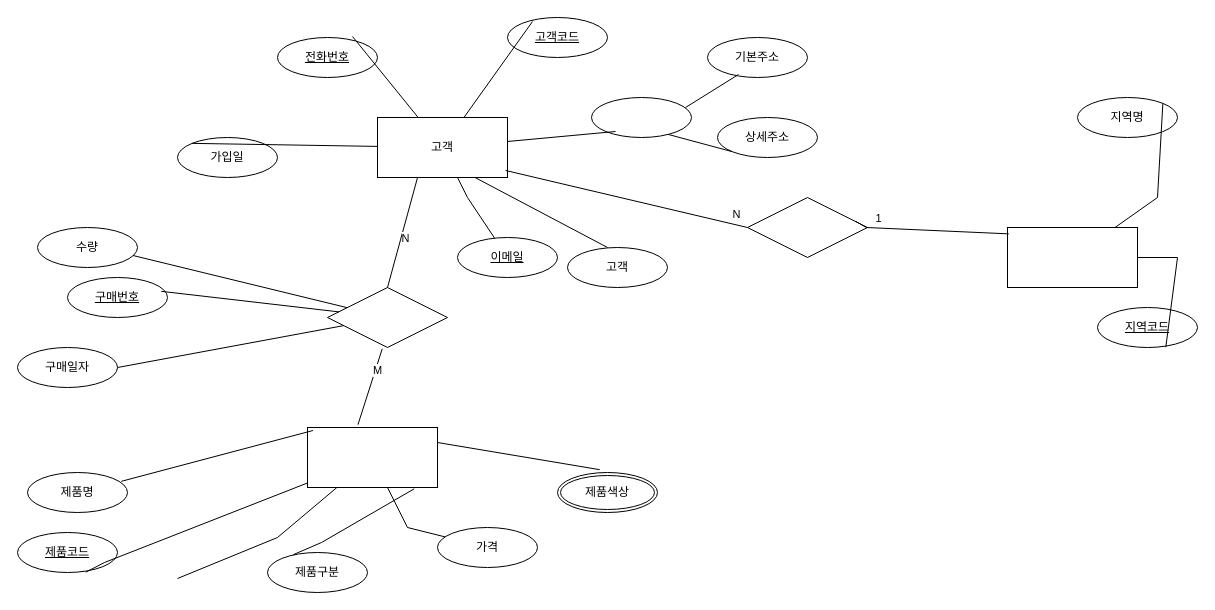
Some shapes in this 1215 by 610 pixel diagram are drawn without their labels. Here are the shapes that lost their labels. From the top down, the centre of each, then its label:
At point 641,117: "주소".
At point 807,227: "관리".
At point 1072,257: "지역".
At point 387,317: "구매".
At point 372,457: "제품".
